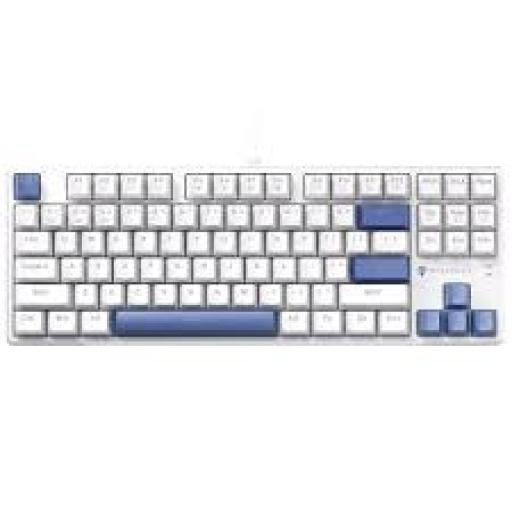KEYBOARD-2: (7, 166, 503, 344)
